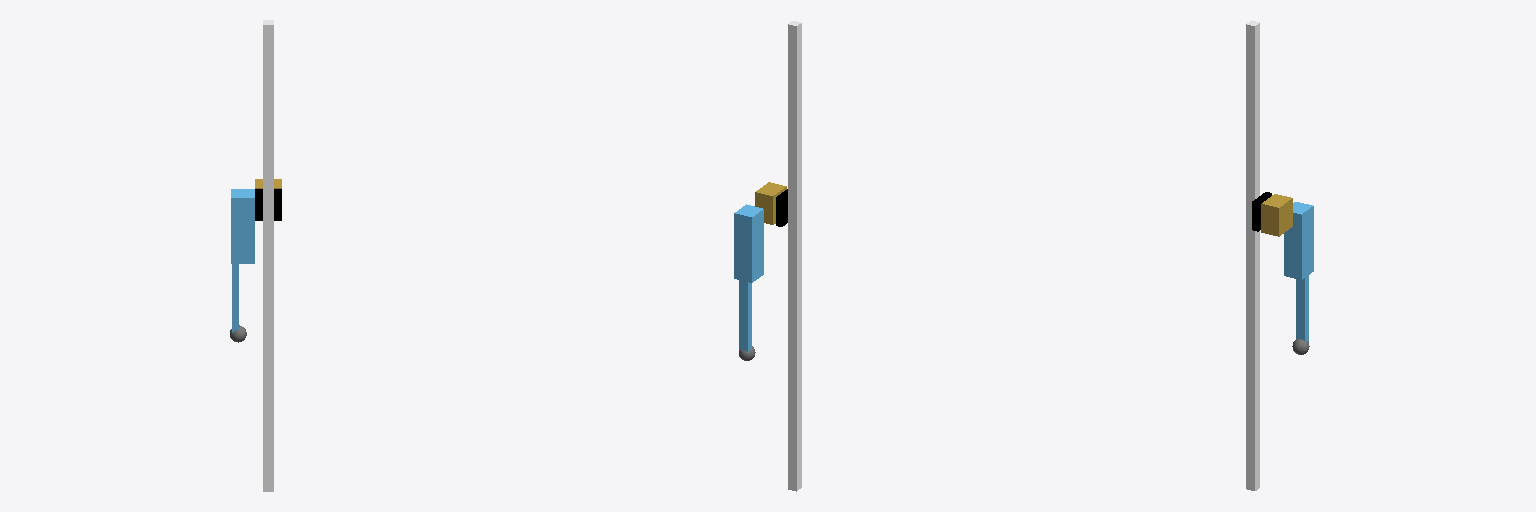
URDF robot description (leg):
<?xml version="1.0" ?>


<robot name="leg" xmlns:xacro="http://www.ros.org/wiki/xacro">


    <gazebo>
        <plugin filename="libgazebo_ros_control.so" name="gazebo_ros_control">
            <robotNamespace>/leg</robotNamespace>
            <robotSimType>
                gazebo_ros_control/DefaultRobotHWSim
            </robotSimType>
        </plugin>
    </gazebo>

    <gazebo>
        <plugin filename="libgazebo_ros_p3d.so" name="p3d_base_controller">
            <alwaysOn>true</alwaysOn>
            <updateRate>10.0</updateRate>
            <bodyName>trunk</bodyName>
            <bodyName>hip</bodyName>
            <bodyName>calf</bodyName>
            <bodyName>foot</bodyName>
            <topicName>odom</topicName>
            <gaussianNoise>0.01</gaussianNoise>
            <frameName>world</frameName>
            <xyzOffsets>0 0 0</xyzOffsets>
            <rpyOffsets>0 0 0</rpyOffsets>
        </plugin>
  </gazebo>


    <material name="black">
        <color rgba="0.0 0.0 0.0 1.0"/>
    </material>
    <material name="blue">
        <color rgba="0.0 0.0 0.8 1.0"/>
    </material>
    <material name="green">
        <color rgba="0.0 0.8 0.0 1.0"/>
    </material>
    <material name="grey">
        <color rgba="0.2 0.2 0.2 1.0"/>
    </material>
    <material name="silver">
        <color rgba="0.913725490196 0.913725490196 0.847058823529 1.0"/>
    </material>
    <material name="orange">
        <color rgba="1.0 0.423529411765 0.0392156862745 1.0"/>
    </material>
    <material name="brown">
        <color rgba="0.870588235294 0.811764705882 0.764705882353 1.0"/>
    </material>
    <material name="white_gray">
        <color rgba="0.823529411765 0.823529411765 0.823529411765 1.0"/>
    </material>
    <material name="gold">
        <color rgba="0.811764705882 0.678431372549 0.301960784314 1.0"/>
    </material>
    <material name="white_blue">
        <color rgba="0.462745098039 0.8 0.992156862745 1.0"/>
    </material>
    <material name="white_black">
        <color rgba="0.494117647059 0.494117647059 0.494117647059 1.0"/>
    </material>
    <material name="red">
        <color rgba="0.8 0.0 0.0 1.0"/>
    </material>
    <material name="white">
        <color rgba="1.0 1.0 1.0 1.0"/>
    </material>

  <gazebo reference="trunk">
        <mu1>0.9</mu1>
        <mu2>0.9</mu2>
        <material>Gazebo/DarkGrey</material>
  </gazebo>

  <gazebo reference="jump">
        <mu1>0.9</mu1>
        <mu2>0.9</mu2>
        <material>Gazebo/DarkGrey</material>
        <kd value="100000.0"/>
  </gazebo>

  <gazebo reference="hip">
        <mu1>0.9</mu1>
        <mu2>0.9</mu2>
        <material>Gazebo/Orange</material>
        <self_collide>1</self_collide>
        <!-- <kd value="1.0"/> -->
  </gazebo>
  <gazebo reference="thigh">
        <mu1>0.9</mu1>
        <mu2>0.9</mu2>
        <self_collide>1</self_collide>
        <material>Gazebo/White</material>
        <!-- <kp value="1000000.0"/> -->
        <kd value="1.0"/>
  </gazebo>
  <gazebo reference="calf">
        <mu1>0.9</mu1>
        <mu2>0.9</mu2>
        <self_collide>1</self_collide>
        <material>Gazebo/DarkGray</material>
        <kd value="1.0"/>
  </gazebo>
  <gazebo reference="foot">
        <mu1>0.9</mu1>
        <mu2>0.9</mu2>
        <self_collide>1</self_collide>
        <material>Gazebo/DarkGray</material>
        <kp value="100000.0"/>
<!--        <kp value="40000.0"/>-->
        <!-- <kd value="1.0"/> -->
  </gazebo>

    <link name="world"/>
    <gazebo reference="world">
        <static>true</static>
    </gazebo>

    <link name="trunk">
        <visual>
        <origin rpy="0 0 0" xyz="0 0 0.75"/>
        <geometry>
            <box size="0.03 0.03 1.5"/>
        </geometry>
        <material name="white"/>
        </visual>
        <collision>
            <origin rpy="0 0 0" xyz="0 0 0.75"/>
            <geometry>
                <box size="0.03 0.03 1.5"/>
            </geometry>
        </collision>
        <inertial>
            <origin rpy="0 0 0" xyz="0 0 0.75"/>
            <mass value="100"/>
            <inertia ixx="0.011253" ixy="0" ixz="0.0" iyy="0.036203" iyz="-0.0" izz="0.042673"/>
            </inertial>
        </link>
      
    
    <joint name="trunk_to_world" type="fixed">
        <origin rpy="0 0 0" xyz="0 0 0"/>
        <parent link="world"/>
        <child link="trunk"/>
    </joint>

    <!-- <joint name= "stop" type="revolute">
      <parent link="trunk"/>
      <axis xyz="0 0 1"/>
      <child link="stoper"/>
      <limit effort="1000" lower="-3.14" upper="3.14" velocity="50"/>
      <origin rpy="0 0 0" xyz="0 0 0.35"/>
      <dynamics damping="0" friction="0"/>
    </joint>
    <link name="stoper">
        <visual>
            <origin rpy="0 0 0" xyz="0.03 0 0"/>
            <geometry>
                <box size="0.06 0.08 0.01"/>
            </geometry>
            <material name="red"/>
        </visual>
        <collision>
            <origin rpy="0 0 0" xyz="0.03 0 0"/>
            <geometry>
                <box size="0.06 0.08 0.01"/>
            </geometry>
        </collision>
        <inertial>
            <origin rpy="0 0 0" xyz="0.01 0 0"/>
            <mass value="0.002"/>
            <inertia ixx="0.0007148275" ixy="0.0" ixz="0.0" iyy="0.0007955775" iyz="0.0" izz="0.00068875"/>
        </inertial>
    </link> -->
  

    <joint name="jumper" type="prismatic">
        <parent link="trunk"/>
        <axis xyz="0 0 1"/>
        <child link="jump"/>
        <limit effort="1000" lower="-1" upper="0.5" velocity="50"/>
        <origin rpy="0 0 0" xyz="0 0 0.9"/>
        <dynamics damping="5" friction="0.9"/>

    </joint>


    <link name="jump">
        <visual>
            <origin rpy="0 0 0" xyz="0.03 0 0"/>
            <geometry>
                <box size="0.02 0.08 0.093"/>
            </geometry>
            <material name="black"/>
        </visual>
        <collision>
            <origin rpy="0 0 0" xyz="0.03 0 0"/>
            <geometry>
                <box size="0.02 0.08 0.093"/>
            </geometry>
        </collision>
        <inertial>
            <origin rpy="0 0 0" xyz="0.01 0 0"/>
            <mass value="2.18"/>
            <inertia ixx="0.007148275" ixy="0.0" ixz="0.0" iyy="0.007955775" iyz="0.0" izz="0.0068875"/>
        </inertial>
    </link>

    <joint name="hip_joint" type="revolute">
        <origin rpy="0 0 0" xyz="0.05 0 0"/>
        <parent link="jump"/>
        <child link="hip"/>
        <axis xyz="1 0 0"/>
        <dynamics damping="0.4" friction="0.7"/>
        <limit effort="100" lower="-0.872664625997" upper="1.0471975512" velocity="5"/>
  </joint>

  <link name="hip">
    <visual>
      <origin rpy="0 0 0" xyz="0.03 0 0"/>
      <geometry>
        <box size="0.06 0.08 0.093"/>
      </geometry>
      <material name="gold"/>
    </visual>
    <collision>
      <origin rpy="0 0 0" xyz="0.03 0 0"/>
      <geometry>
        <box size="0.06 0.08 0.093"/>
      </geometry>
    </collision>
    <inertial>
      <origin rpy="0 0 0" xyz="0.03 0 0.0"/>
      <mass value="0.63"/>
      <inertia ixx="0.0007148275" ixy="0.0" ixz="0.0" iyy="0.0007955775" iyz="0.0" izz="0.00068875"/>
    </inertial>

  </link>
    <joint name="thigh_joint" type="revolute">
    <origin rpy="0 0 0" xyz="0.06 0.015 0"/>
    <parent link="hip"/>
    <child link="thigh"/>
    <axis xyz="0 1 0"/>
    <dynamics damping="0.4" friction="0.1" />
    <limit effort="100" lower="-0.523598775598" upper="3.92699081699" velocity="5"/>
  </joint>

  <link name="thigh">
    <visual>
      <origin rpy="0 0 0" xyz="0 0.06 -0.105915"/>
      <geometry>
        <box size="0.06 0.07125 0.21183"/>
      </geometry>
      <material name="white_blue"/>
    </visual>
    <collision>
      <origin rpy="0 0 0" xyz="0 0.06 -0.105915"/>
      <geometry>
        <box size="0.03 0.02 0.1"/>
      </geometry>
      <material name="white_blue"/>
    </collision>
    <inertial>
      <origin rpy="0 0 0" xyz="0.0 0.06 -0.02"/>
      <mass value="1.062"/>
      <inertia ixx="0.00261820866667" ixy="0.0" ixz="0.0" iyy="0.00265482216667" iyz="0.0" izz="0.000158764166667"/>
    </inertial>
  </link>
  <!-- //////////////////////calf//////////////////// -->
  <joint name="calf_joint" type="revolute">
    <origin rpy="0 0 0" xyz="0 0.07125 -0.21183"/>
<!--    <origin rpy="0 0 0" xyz="0 0.01 -0.1881"/>-->
    <parent link="thigh"/>
    <child link="calf"/>
    <axis xyz="0 1 0"/>
    <dynamics damping="0.1" friction="0.1"/>
    <limit effort="1000" lower="-3.14159265359" upper="0.0" velocity="100"/>
  </joint>
  <link name="calf">
    <visual>
      <origin rpy="0 0 0" xyz="0.0 0.01 -0.120"/>
      <geometry>
        <box size="0.03 0.02 0.240"/>
          <!--mesh filename="package://first_leg/mesh/calf.dae" scale="1 1 1"/-->
      </geometry>
      <material name="white_blue"/>
    </visual>
    <collision>
      <origin rpy="0 0 0" xyz="0.0 0.01 -0.120"/>
      <geometry>
          <box size="0.03 0.02 0.240"/>
        <!--mesh filename="package://first_leg/mesh/Sim_0_00_04.STL" scale="1 1 1"/-->
      </geometry>
    </collision>
    <inertial>
      <origin rpy="0 0 0" xyz="0.0 0.0 -0.240"/>
      <mass value="0.133"/>
      <inertia ixx="0.000214698666667" ixy="0.0" ixz="0.0" iyy="0.000214698666667" iyz="0.0" izz="2.73066666667e-06"/>
    </inertial>
  </link>
  <!-- //////////////////////foot//////////////////// -->
  <joint name="foot_joint" type="revolute">
    <origin rpy="0 0 0" xyz="0 0 -0.240"/>
<!--    <origin rpy="0 0 0" xyz="0 0.01 -0.1881"/>-->
    <parent link="calf"/>
    <child link="foot"/>
    <axis xyz="0 1 0"/>
    <dynamics damping="0.1" friction="0"/>
     <limit effort="1" lower="0" upper="0" velocity="1"/>
  </joint>

  

  <link name="foot">
    <visual>
      <origin rpy="0 0 0" xyz="0 0.002 0"/>
      <geometry>
        <sphere radius="0.025"/>
      </geometry>
      <material name="white_black"/>
    </visual>
    <collision name = "foot">
      <origin rpy="0 0 0" xyz="0 0.002 0"/>
      <geometry>
        <sphere radius="0.025"/>
      </geometry>
    </collision>
    <inertial>
      <origin rpy="0 0 0" xyz="0 0.002 0"/>
      <mass value="0.005"/>
      <inertia ixx="4.2135e-05" ixy="0.0" ixz="0.0" iyy="4.2135e-05" iyz="0.0" izz="4.2135e-05"/>
    </inertial>
  </link>



  <gazebo reference="foot_joint">
      <provideFeedback>True</provideFeedback>
  </gazebo>
  <gazebo>
      <plugin name="ft_sensor_foot" filename="libgazebo_ros_ft_sensor.so">
          <updateRate>100.0</updateRate>
          <topicName>sensor</topicName>
          <jointName>foot_joint</jointName>
      </plugin>
  </gazebo>

  <!--/////////////// transmission tags ////////////////////// -->

    <transmission name="jump_trans">
    <type>transmission_interface/SimpleTransmission</type>
    <joint name="jumper">
      <hardwareInterface>hardware_interface/EffortJointInterface</hardwareInterface>
    </joint>
    <actuator name="jump_motor">
      <hardwareInterface>hardware_interface/EffortJointInterface</hardwareInterface>
      <mechanicalReduction>1</mechanicalReduction>
    </actuator>
  </transmission>
  <!-- <transmission name="foot_trans">
    <type>transmission_interface/SimpleTransmission</type>
    <joint name="foot_joint">
      <hardwareInterface>hardware_interface/EffortJointInterface</hardwareInterface>
    </joint>
    <actuator name="foot_motor">
      <hardwareInterface>hardware_interface/EffortJointInterface</hardwareInterface>
      <mechanicalReduction>1</mechanicalReduction>
    </actuator>
  </transmission> -->
  <transmission name="hip_tran">
    <type>transmission_interface/SimpleTransmission</type>
    <joint name="hip_joint">
      <hardwareInterface>hardware_interface/EffortJointInterface</hardwareInterface>
    </joint>
    <actuator name="hip_motor">
      <hardwareInterface>hardware_interface/EffortJointInterface</hardwareInterface>
      <mechanicalReduction>1</mechanicalReduction>
    </actuator>
  </transmission>
  <transmission name="thigh_tran">
    <type>transmission_interface/SimpleTransmission</type>
    <joint name="thigh_joint">
      <hardwareInterface>hardware_interface/EffortJointInterface</hardwareInterface>
    </joint>
    <actuator name="thigh_motor">
      <hardwareInterface>hardware_interface/EffortJointInterface</hardwareInterface>
      <mechanicalReduction>1</mechanicalReduction>
    </actuator>
  </transmission>
  <transmission name="calf_tran">
    <type>transmission_interface/SimpleTransmission</type>
    <joint name="calf_joint">
      <hardwareInterface>hardware_interface/EffortJointInterface</hardwareInterface>
    </joint>
    <actuator name="calf_motor">
      <hardwareInterface>hardware_interface/EffortJointInterface</hardwareInterface>
      <mechanicalReduction>1</mechanicalReduction>
    </actuator>
  </transmission>
</robot>

--- Render facts (derived) ---
3 views of the same robot in one strip: view 1: azimuth 90°, elevation 25°; view 2: azimuth 150°, elevation 25°; view 3: azimuth 330°, elevation 25° (orthographic).
Robot: leg — 7 links, 6 joints (4 revolute, 1 prismatic, 1 fixed); root link world; default pose: every joint at zero.
Links seen in each view (by area): view 1: trunk, thigh; view 2: trunk, thigh, calf, hip; view 3: trunk, thigh, hip, calf.
Link boxes in pixels (<box>): trunk: <box>263,20,273,491</box>; thigh: <box>231,189,254,263</box>; trunk: <box>788,21,801,491</box>; thigh: <box>734,204,763,282</box>; calf: <box>739,280,751,352</box>; hip: <box>755,182,786,224</box>; trunk: <box>1246,20,1259,490</box>; thigh: <box>1284,202,1313,279</box>; hip: <box>1261,194,1292,236</box>; calf: <box>1296,275,1308,341</box>.
Size in the robot's own frame: 0.155 by 0.1533 by 1.5 metres.
Geometry: primitives only (box / cylinder / sphere), no mesh files.